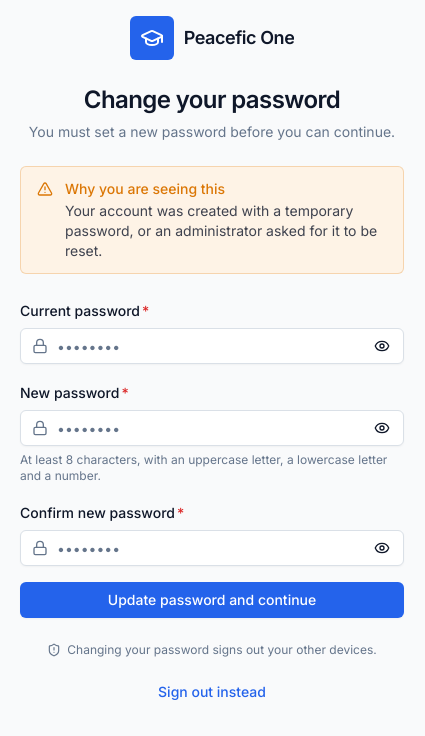
Test: Change password page › shows a reuse rejection as a banner
Type "OldPassw0rd" into the password field labelled "Current password*". click: [212, 346]
box: [20,328,404,364]
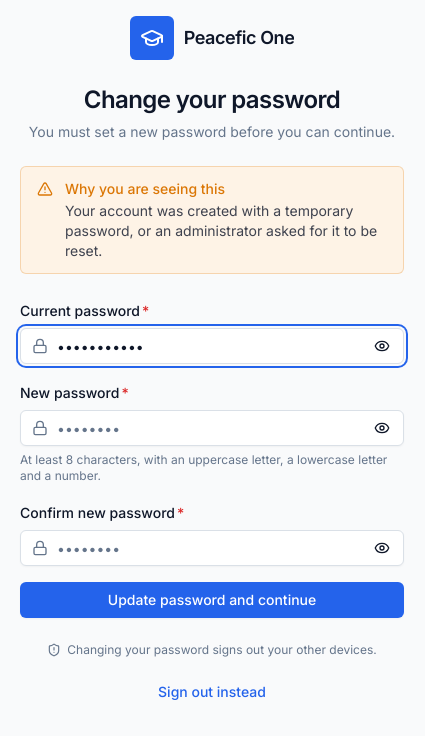
Type "NewPassw0rd" into the password field labelled "New password*". click: [212, 428]
box: [20,410,404,446]
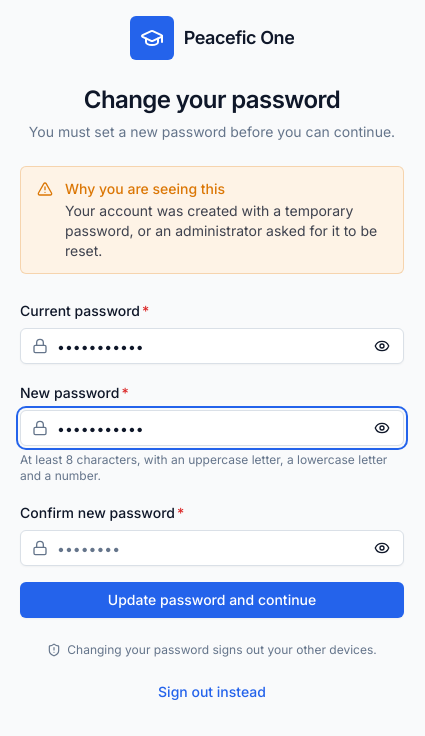
Type "NewPassw0rd" into the password field labelled "Confirm new password*". click: [212, 548]
box: [20,530,404,566]
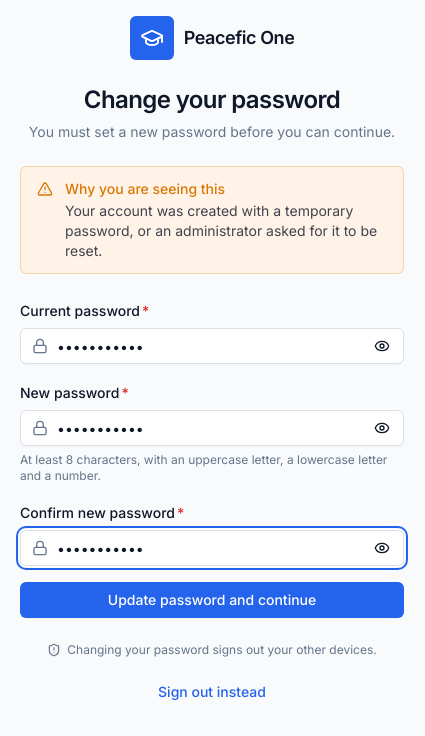
Click the button "Update password and continue". click: [212, 600]
box: [20,582,404,618]
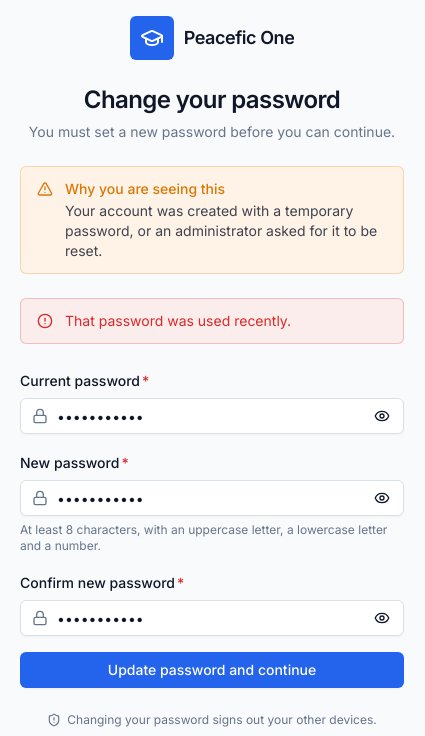
Check: the text "That password was used recently." is shown, box [65,311,291,331]
